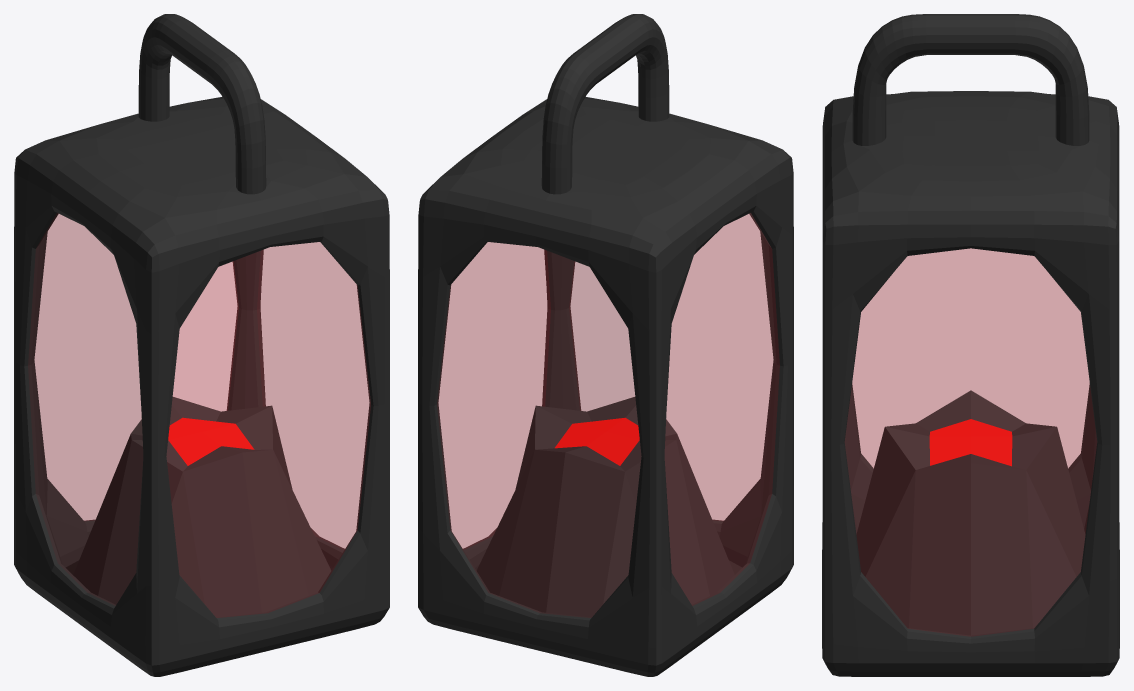
File: Lamp.fbx
The picture shows the model from 3 angles, left to right: view 1: azimuth 30°, elevation 25°; view 2: azimuth 150°, elevation 25°; view 3: azimuth 270°, elevation 25°; orthographic projection. The views are drawn at different scales.
Visible parts, largest first — view 1: Cube; view 2: Cube; view 3: Cube.
Part boxes in pixels (bbox=[...]): Cube: bbox=[14, 14, 389, 676]; Cube: bbox=[418, 14, 793, 676]; Cube: bbox=[822, 14, 1119, 676].
Bounding box in the file's own units: 213 × 479 × 213.
